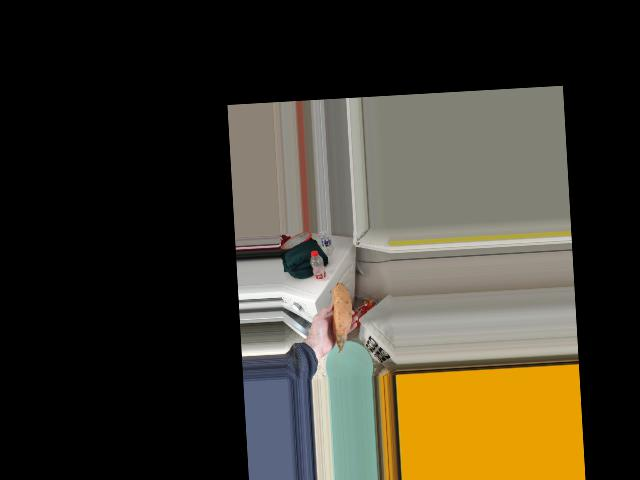sweet_potato: (326, 276, 352, 338)
